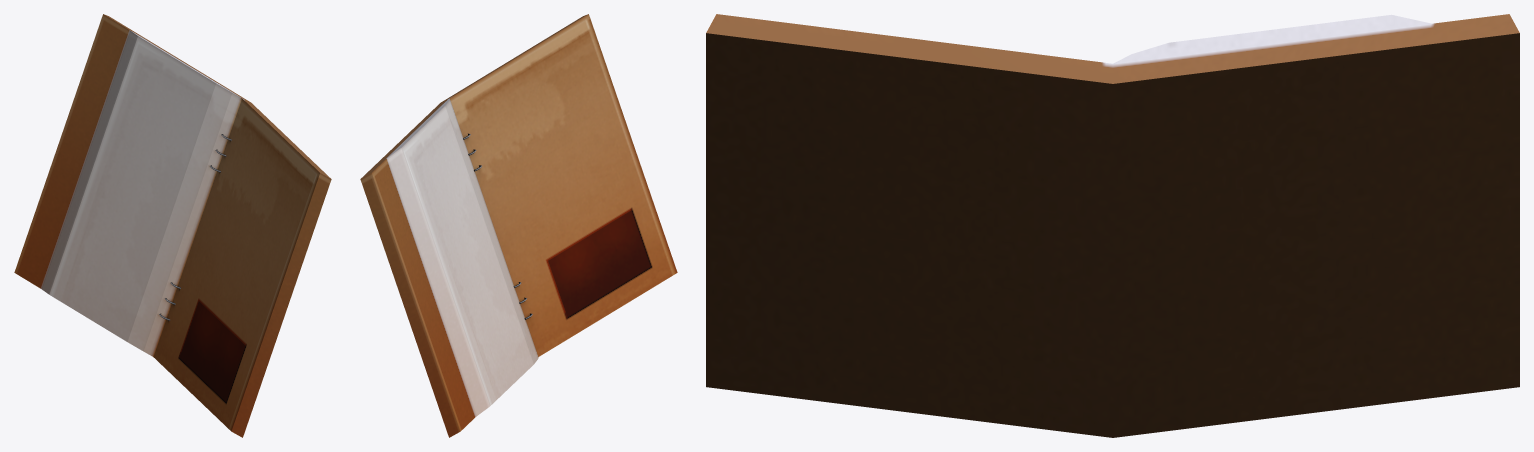
Rendered from BianLiDian_01_huoyejia_01.FBX.
3 renders of one model, left to right at view 1: azimuth 30°, elevation 25°; view 2: azimuth 150°, elevation 25°; view 3: azimuth 270°, elevation 25°, orthographic. The views are drawn at different scales.
Visible parts, largest first — view 1: BianLiDian_01_huoyejia_01; view 2: BianLiDian_01_huoyejia_01; view 3: BianLiDian_01_huoyejia_01.
Boxes of the visible parts, x1,y1,x2,y2 form: BianLiDian_01_huoyejia_01: [14, 14, 331, 437]; BianLiDian_01_huoyejia_01: [360, 14, 677, 437]; BianLiDian_01_huoyejia_01: [706, 14, 1519, 437].
Size of the model in its own units: 39.96 by 76.36 by 120.
